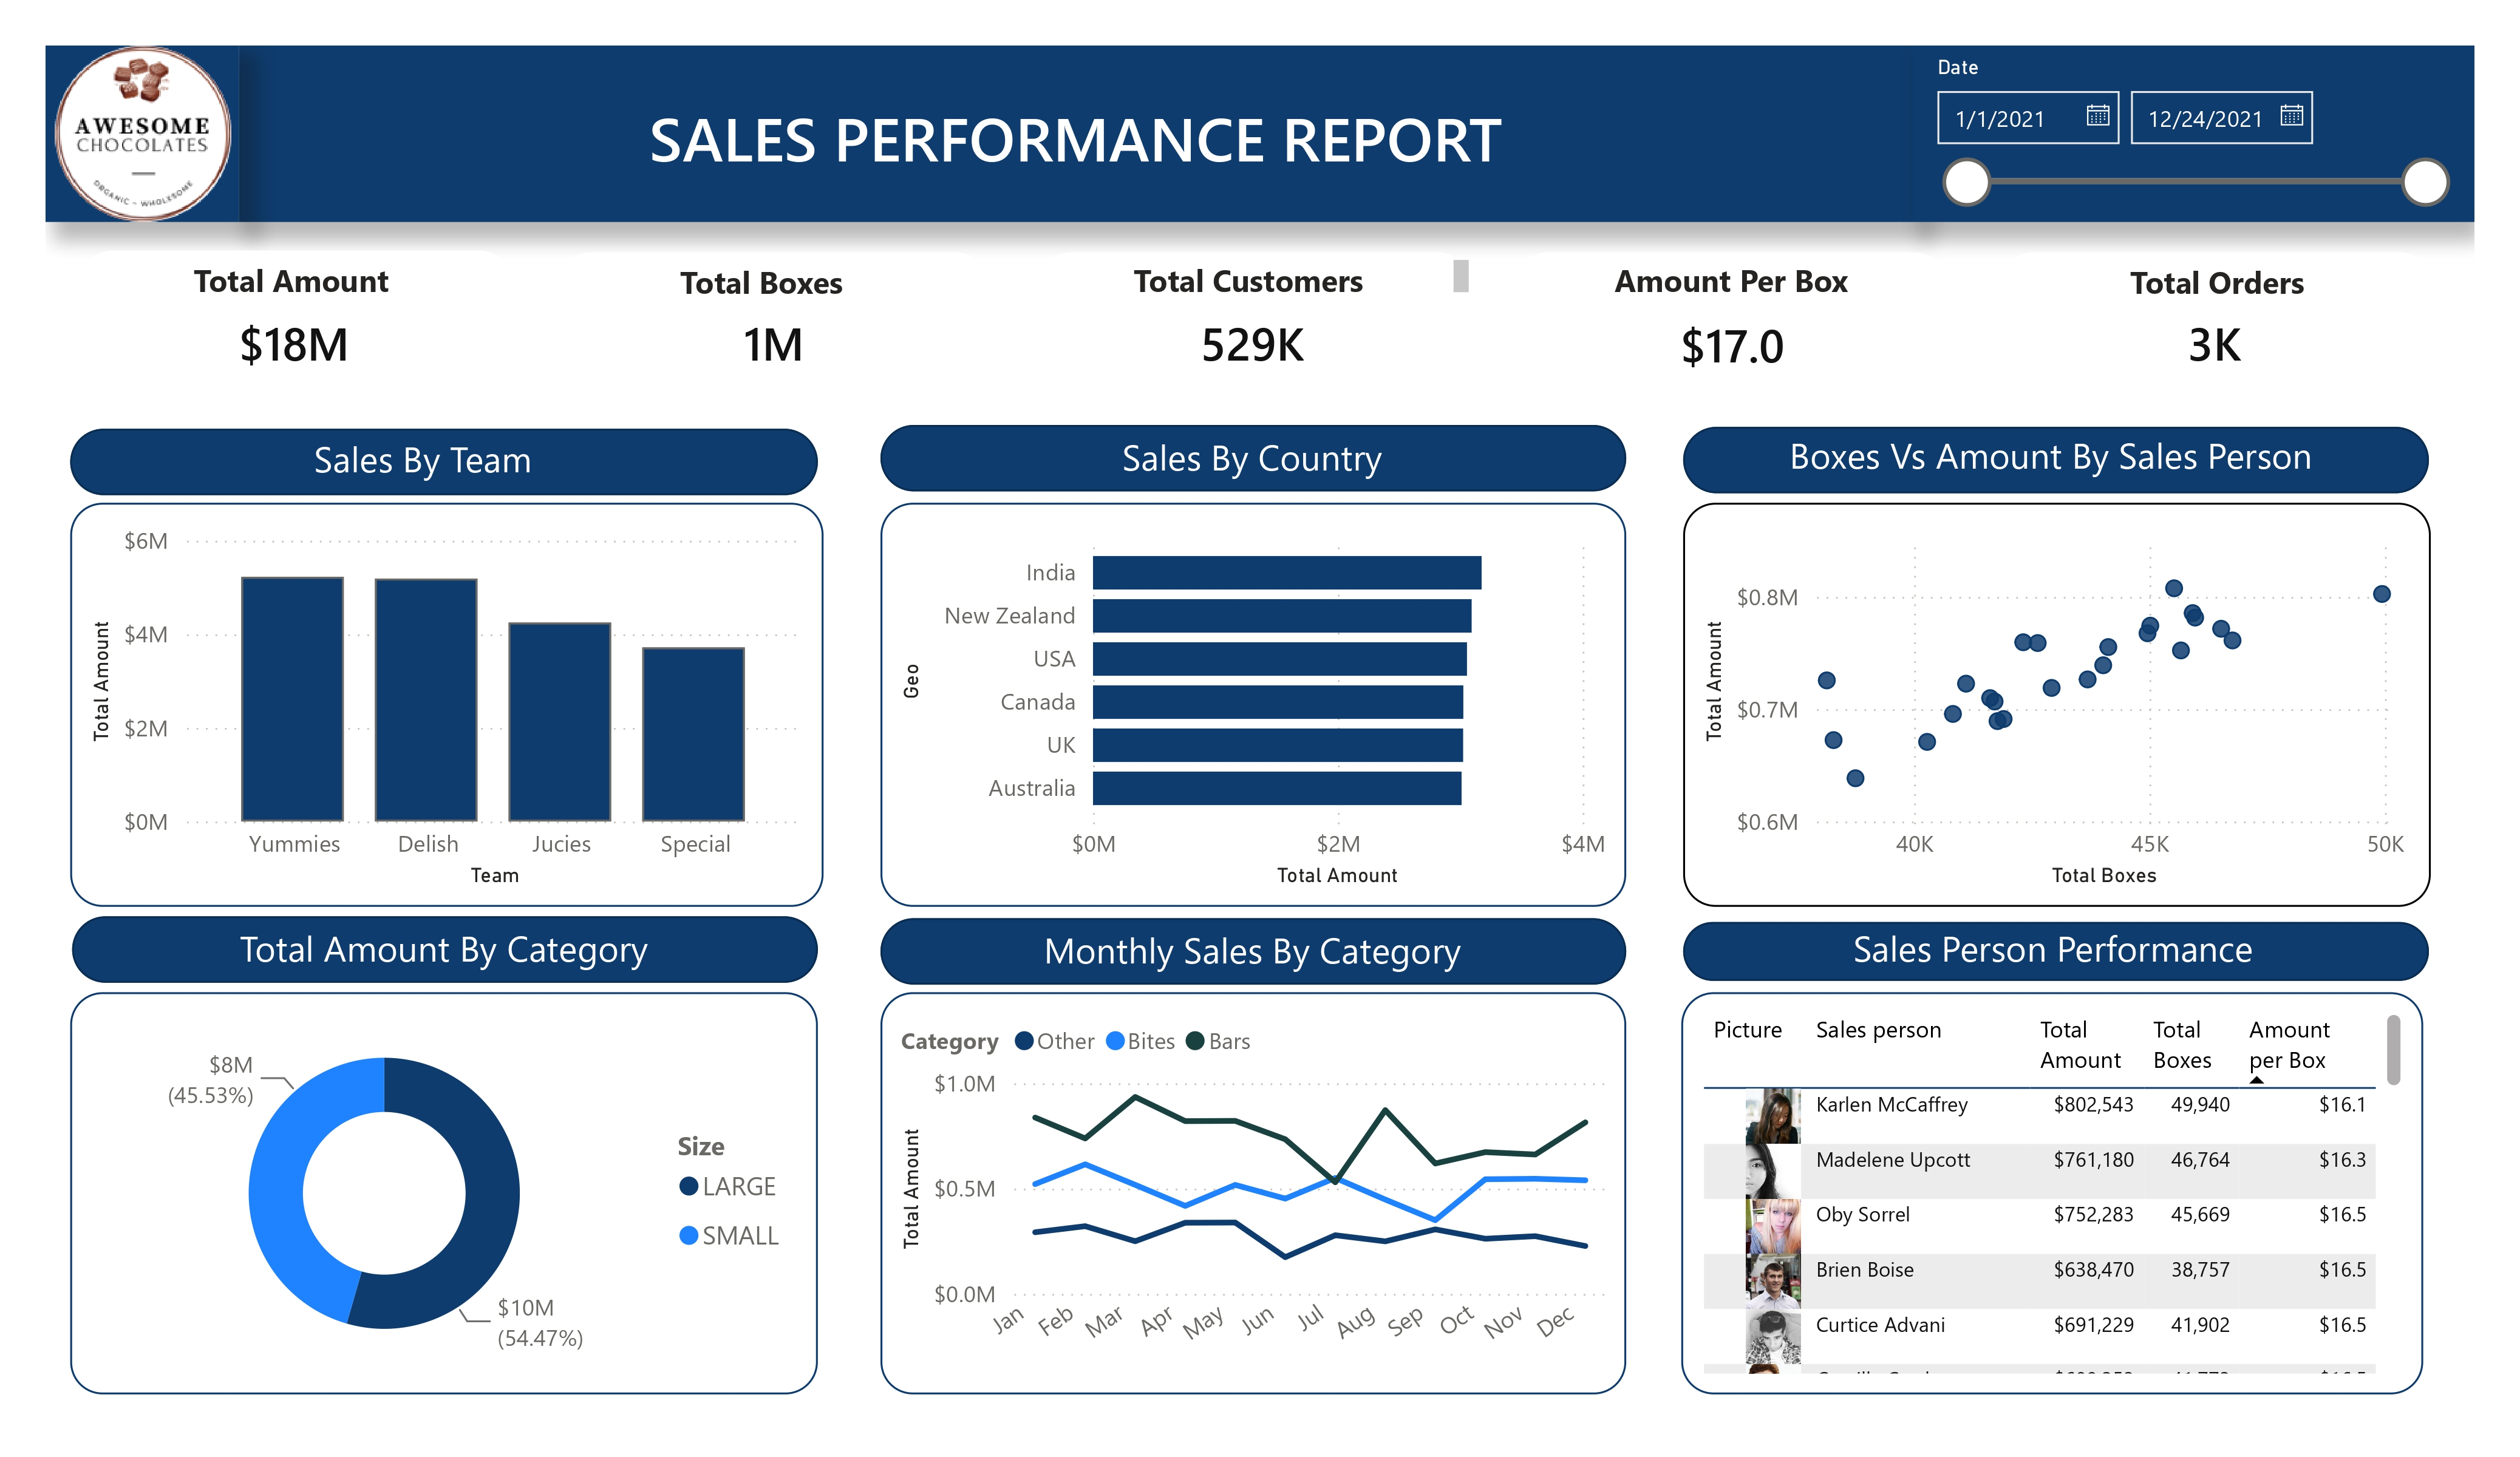

This screenshot's page, from the dashboard's own definition file:
{"tool":"powerbi","page":{"name":"2. sayfa","canvas":[1280,720],"ordinal":0},"visuals":[{"type":"cardVisual","fields":{"Data":["sales.Dynamic_Main_Title"]},"box":[102.2,0,882.2,93.3],"z":0},{"type":"shape","box":[267.8,108.9,231.7,80],"z":0,"group":"g8"},{"type":"shape","box":[1027.9,108.9,231.7,80],"z":0,"group":"g11"},{"type":"shape","box":[440.1,200,393.3,34.4],"z":0,"group":"g2"},{"type":"shape","box":[863.3,201.1,393.3,34.4],"z":0,"group":"g3"},{"type":"shape","box":[14.4,458.8,393.3,34.4],"z":0,"group":"g4"},{"type":"shape","box":[440,459.9,393.3,34.4],"z":0,"group":"g5"},{"type":"shape","box":[863.3,461.2,393.3,31.6],"z":0,"group":"g6"},{"type":"textbox","box":[263.3,108.9,233.3,33.3],"z":1000,"group":"g8"},{"type":"shape","box":[772.2,108.9,231.8,80],"z":1000,"group":"g10"},{"type":"shape","box":[13.3,202.2,393.3,34.4],"z":1000},{"type":"shape","box":[521.2,108.9,231.8,80],"z":2000,"group":"g9"},{"type":"group","id":"g1","title":"Grup 1","box":[268,113,232.2,84.4],"z":2000,"group":"g8"},{"type":"tableEx","fields":{"Values":["people.Picture","people.Sales person","sales.Total Amount","sales.Total Boxes","sales.Amount per Box"]},"box":[862.4,498.9,391.1,212.2],"z":2000},{"type":"shape","box":[16.3,107.8,231.6,81.2],"z":3000,"group":"g7"},{"type":"donutChart","title":"Total Amount by Category","fields":{"Category":["products.Size"],"Y":["sales.Total Amount"]},"box":[13.3,498.9,393.3,212.2],"z":3000},{"type":"image","box":[0,0,102.2,93.3],"z":4000},{"type":"lineChart","title":"Monthly Sales by Category","fields":{"Category":["sales.Month Name"],"Series":["products.Category"],"Y":["sales.Total Amount"]},"box":[440,498.9,393.3,212.2],"z":5000},{"type":"barChart","title":"Sales by Country","fields":{"Category":["locations.Geo"],"Y":["sales.Total Amount"]},"box":[440,241.1,393.3,213.3],"z":6000},{"type":"columnChart","title":"Sales by Team","fields":{"Category":["people.Team"],"Y":["sales.Total Amount"]},"box":[13.3,241.1,396.7,213.3],"z":7000},{"type":"scatterChart","title":"Boxes vs Amount by Sales Person.","fields":{"Category":["people.Sales person"],"X":["sales.Total Boxes"],"Y":["sales.Total Amount"]},"box":[863.3,241.1,393.3,213.3],"z":8000},{"type":"slicer","fields":{"Values":["sales.Date"]},"box":[984.4,0,295.6,93.3],"z":9000},{"type":"textbox","box":[28.9,200,340,36.7],"z":10000},{"type":"cardVisual","fields":{"Data":["sales.Total Boxes"]},"box":[268,113,232.2,84.4],"z":11000,"group":"g1"},{"type":"cardVisual","fields":{"Data":["sales.Total Amount"]},"box":[15.5,113.4,232.2,82.2],"z":11000,"group":"g7"},{"type":"group","id":"g2","title":"Grup 8","box":[440.1,198.9,393.3,36.7],"z":11000},{"type":"cardVisual","fields":{"Data":["locations.Total Customers"]},"box":[518.9,116.7,234.4,76.7],"z":12000,"group":"g9"},{"type":"group","id":"g3","title":"Grup 8","box":[863.3,198,393.3,38.9],"z":12000},{"type":"cardVisual","fields":{"Data":["sales.Total Orders"]},"box":[1026.7,115.6,232.2,78.9],"z":13000,"group":"g11"},{"type":"group","id":"g4","title":"Grup 8","box":[14.4,457.7,393.3,36.7],"z":13000},{"type":"cardVisual","fields":{"Data":["sales.Amount per Box"]},"box":[773.3,118.9,232.2,74.4],"z":14000,"group":"g10"},{"type":"group","id":"g5","title":"Grup 8","box":[440,458.8,393.3,36.7],"z":14000},{"type":"group","id":"g6","title":"Grup 8","box":[863.3,457.7,393.3,36.7],"z":15000},{"type":"group","id":"g7","title":"Grup 2","box":[13.3,107.8,234.6,87.8],"z":16000},{"type":"textbox","box":[865.2,198,388.9,38.9],"z":16000,"group":"g3"},{"type":"textbox","box":[465.7,198.9,340,36.7],"z":16000,"group":"g2"},{"type":"textbox","box":[40,457.7,340,36.7],"z":16000,"group":"g4"},{"type":"textbox","box":[888.5,457.7,340,36.7],"z":16000,"group":"g6"},{"type":"textbox","box":[465.6,458.8,340,36.7],"z":16000,"group":"g5"},{"type":"group","id":"g8","title":"Grup 3","box":[263.3,108.9,236.9,88.6],"z":17000},{"type":"group","id":"g9","title":"Grup 4","box":[518.9,107.8,235.6,85.6],"z":18000},{"type":"group","id":"g10","title":"Grup 5","box":[772.2,107.8,233.3,85.6],"z":19000},{"type":"group","id":"g11","title":"Grup 6","box":[1026.7,108.9,234.4,85.6],"z":20000},{"type":"textbox","box":[772.2,107.8,233.3,33.3],"z":20001,"group":"g10"},{"type":"textbox","box":[521.1,107.8,233.3,26.7],"z":20002,"group":"g9"},{"type":"textbox","box":[1027.8,108.9,233.3,33.3],"z":20003,"group":"g11"},{"type":"textbox","box":[13.3,107.8,233.3,33.3],"z":20005,"group":"g7"}]}

Visuals, with their boxes in screenshot pixels (x1, y1, x2, y2):
cardVisual - sales.Dynamic_Main_Title: (244,52,1896,227)
shape: (554,256,988,406)
shape: (1978,256,2411,406)
shape: (877,427,1613,491)
shape: (1669,429,2406,494)
shape: (80,911,816,976)
shape: (876,914,1613,978)
shape: (1669,916,2406,975)
textbox: (545,256,982,319)
shape: (1499,256,1933,406)
shape: (77,431,814,495)
shape: (1029,256,1463,406)
"Grup 1" group: (554,264,989,422)
tableEx - people.Picture x people.Sales person: (1667,987,2400,1384)
shape: (83,254,517,406)
"Total Amount by Category" donutChart: (77,987,814,1384)
image: (52,52,244,227)
"Monthly Sales by Category" lineChart: (876,987,1613,1384)
"Sales by Country" barChart: (876,504,1613,903)
"Sales by Team" columnChart: (77,504,820,903)
"Boxes vs Amount by Sales Person." scatterChart: (1669,504,2406,903)
slicer - sales.Date: (1896,52,2450,227)
textbox: (107,427,743,495)
cardVisual - sales.Total Boxes: (554,264,989,422)
cardVisual - sales.Total Amount: (81,265,516,419)
"Grup 8" group: (877,425,1613,494)
cardVisual - locations.Total Customers: (1024,271,1463,415)
"Grup 8" group: (1669,423,2406,496)
cardVisual - sales.Total Orders: (1975,269,2410,416)
"Grup 8" group: (80,909,816,978)
cardVisual - sales.Amount per Box: (1500,275,1935,415)
"Grup 8" group: (876,911,1613,980)
"Grup 8" group: (1669,909,2406,978)
"Grup 2" group: (77,254,517,419)
textbox: (1673,423,2401,496)
textbox: (925,425,1561,494)
textbox: (128,909,764,978)
textbox: (1717,909,2353,978)
textbox: (924,911,1561,980)
"Grup 3" group: (545,256,989,423)
"Grup 4" group: (1024,254,1465,415)
"Grup 5" group: (1499,254,1935,415)
"Grup 6" group: (1975,256,2414,416)
textbox: (1499,254,1935,317)
textbox: (1029,254,1465,304)
textbox: (1977,256,2414,319)
textbox: (77,254,514,317)
